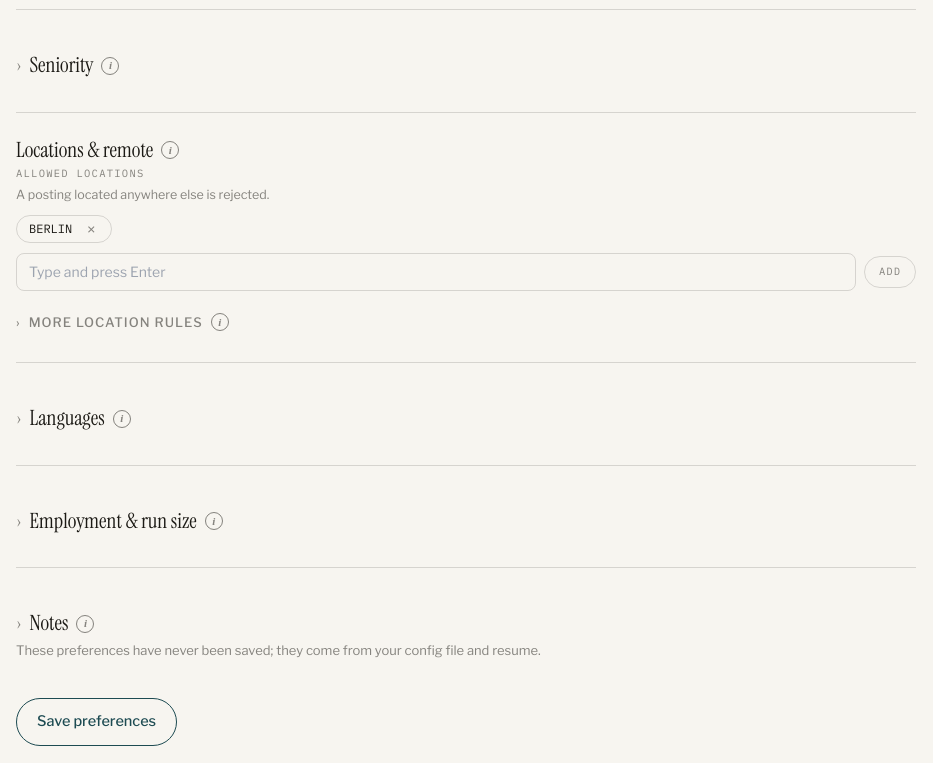
Test: preferences screen › explains a section behind its ⓘ rather than on the page
(page scrolled)
Check: the text "A posting demanding German above it is rejected" is not shown
Click the button named "About Languages": (122, 419) [113,410,131,428]
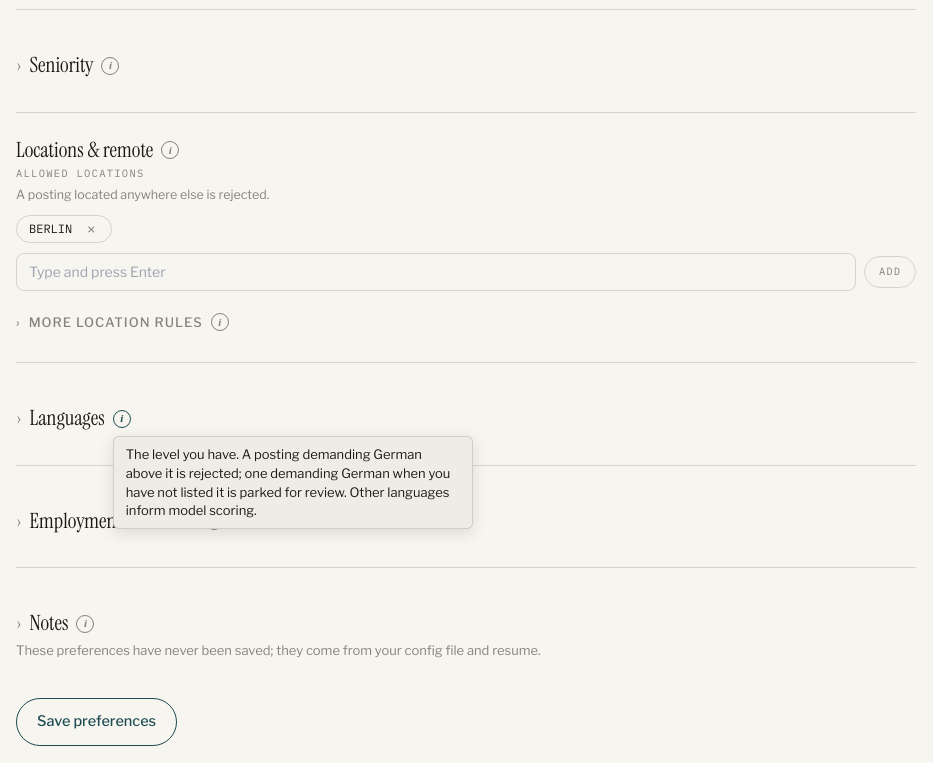
Check: the text "A posting demanding German above it is rejected" is shown, box [126,446,450,518]
